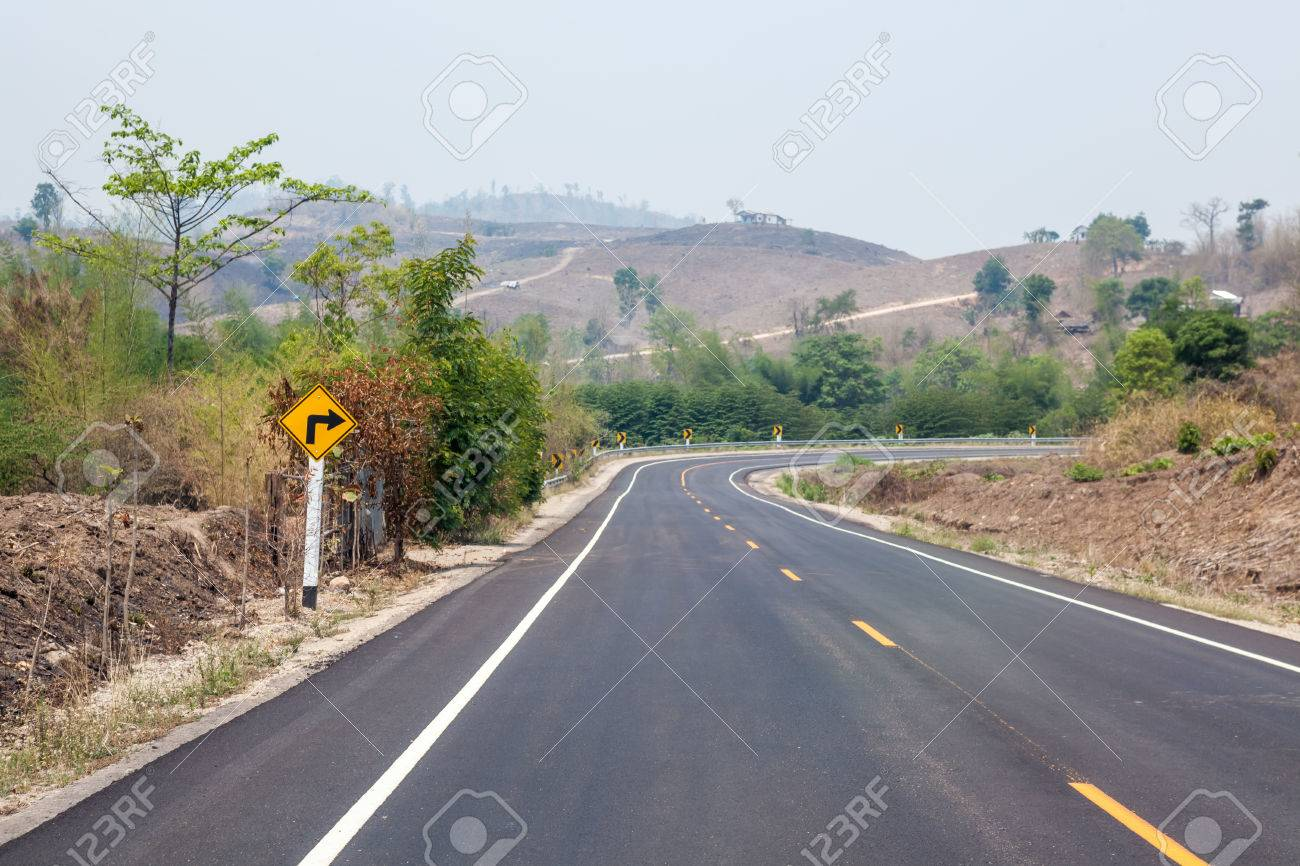right: (276, 383, 359, 463)
